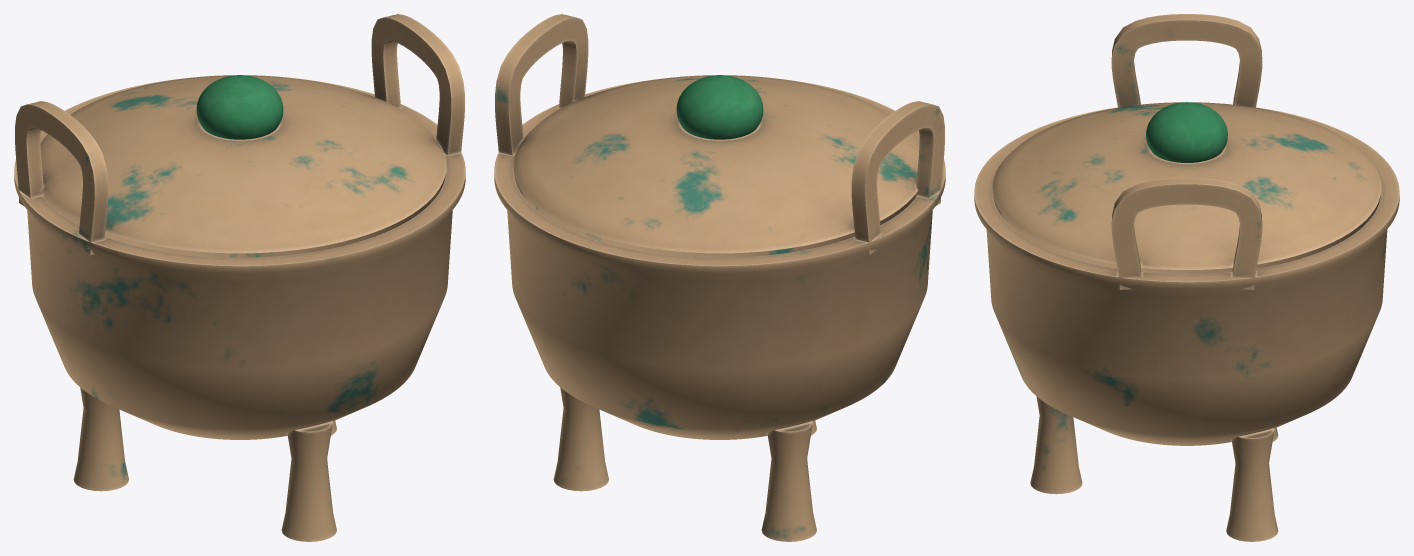
The model's file is ding_censer.glb.
The picture shows the model from 3 angles, left to right: view 1: azimuth 30°, elevation 25°; view 2: azimuth 150°, elevation 25°; view 3: azimuth 270°, elevation 25°; orthographic projection. The views are drawn at different scales.
Visible parts, largest first — view 1: ding_censer; view 2: ding_censer; view 3: ding_censer.
Part boxes in pixels (x1,y1,x2,y2): ding_censer: (14,14,465,541); ding_censer: (494,14,945,541); ding_censer: (974,14,1399,541).
Size of the model in its own units: 0.228 by 0.2272 by 0.228.
Materials: 1 (1 with a texture image).
